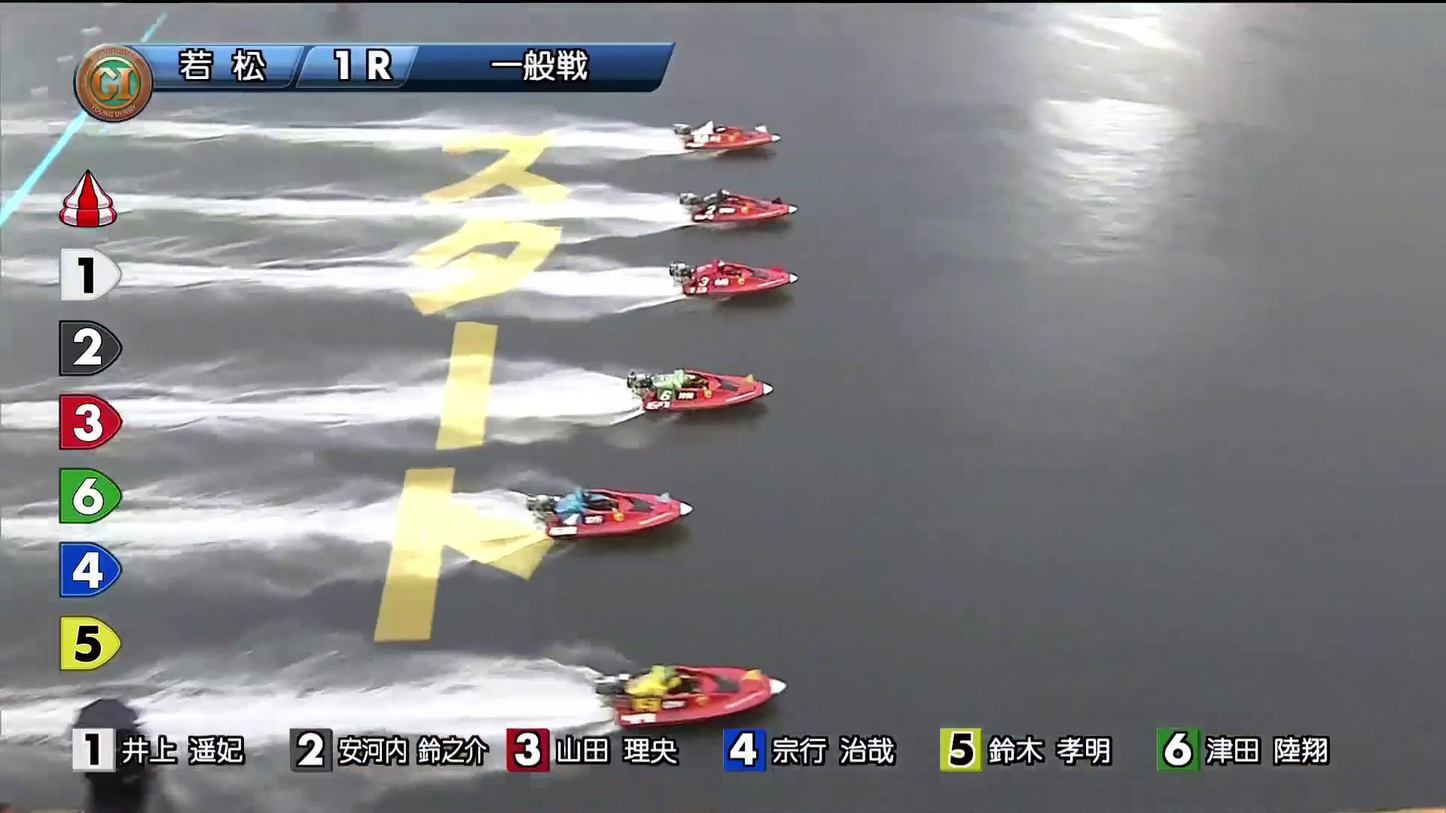１号艇: (712, 111, 770, 157)
２号艇: (687, 189, 790, 227)
３号艇: (679, 258, 805, 299)
４号艇: (666, 360, 771, 403)
５号艇: (556, 483, 676, 538)
６号艇: (607, 657, 765, 714)
